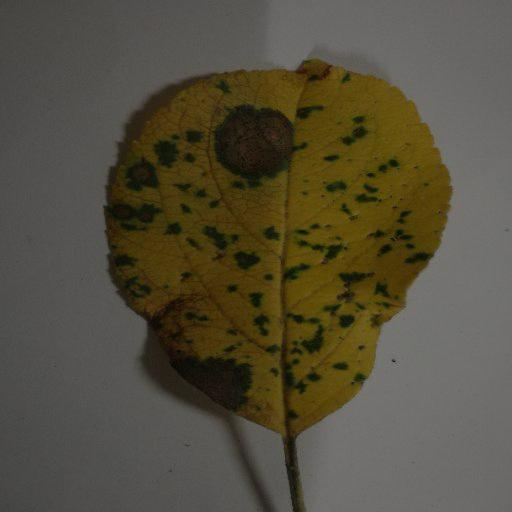Brown_Spot: (213, 109, 296, 175), (173, 351, 249, 407), (144, 283, 195, 344), (108, 200, 158, 224), (129, 166, 152, 176)
